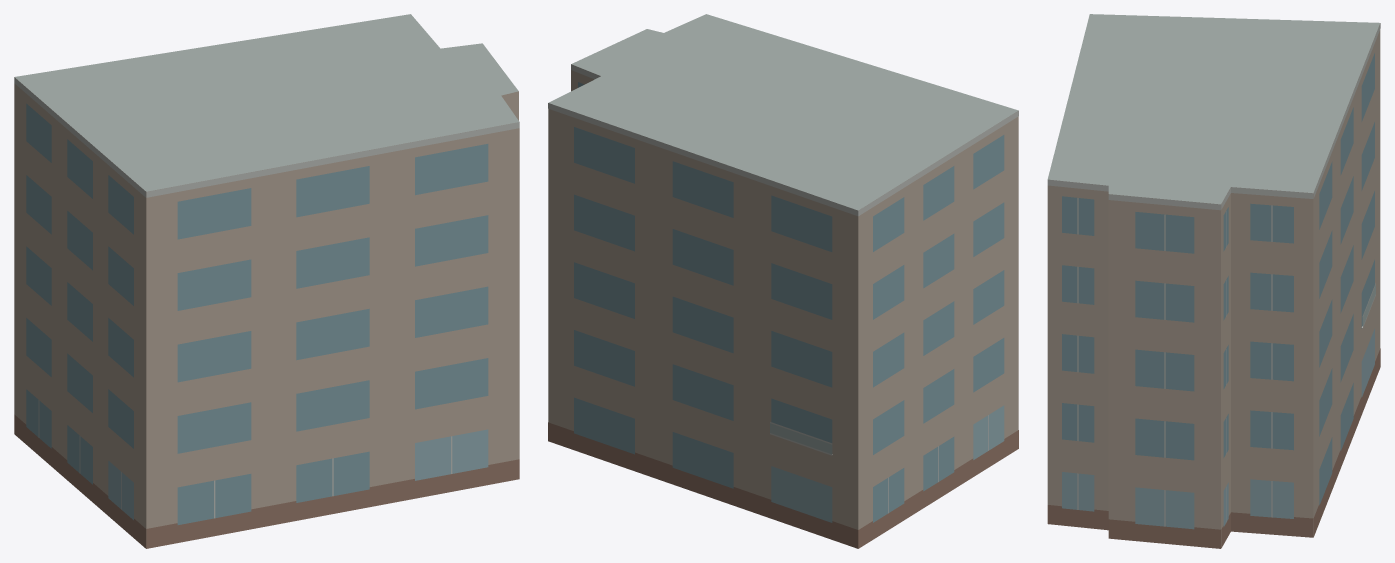
File: survey-upis-33017662.glb
The picture shows the model from 3 angles, left to right: view 1: azimuth 30°, elevation 25°; view 2: azimuth 150°, elevation 25°; view 3: azimuth 270°, elevation 25°; orthographic projection. The views are drawn at different scales.
Parts seen in each view (by area): view 1: survey-upis-33017662.tmp; view 2: survey-upis-33017662.tmp; view 3: survey-upis-33017662.tmp.
Boxes of the visible parts, bbox=[...] form: survey-upis-33017662.tmp: bbox=[14, 14, 519, 548]; survey-upis-33017662.tmp: bbox=[548, 14, 1018, 548]; survey-upis-33017662.tmp: bbox=[1047, 14, 1380, 548].
Bounding box in the file's own units: 16.84 × 14.2 × 12.44.
